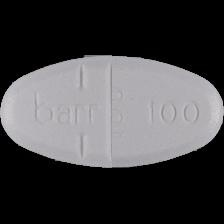0555-0733: (0, 0, 224, 224)
